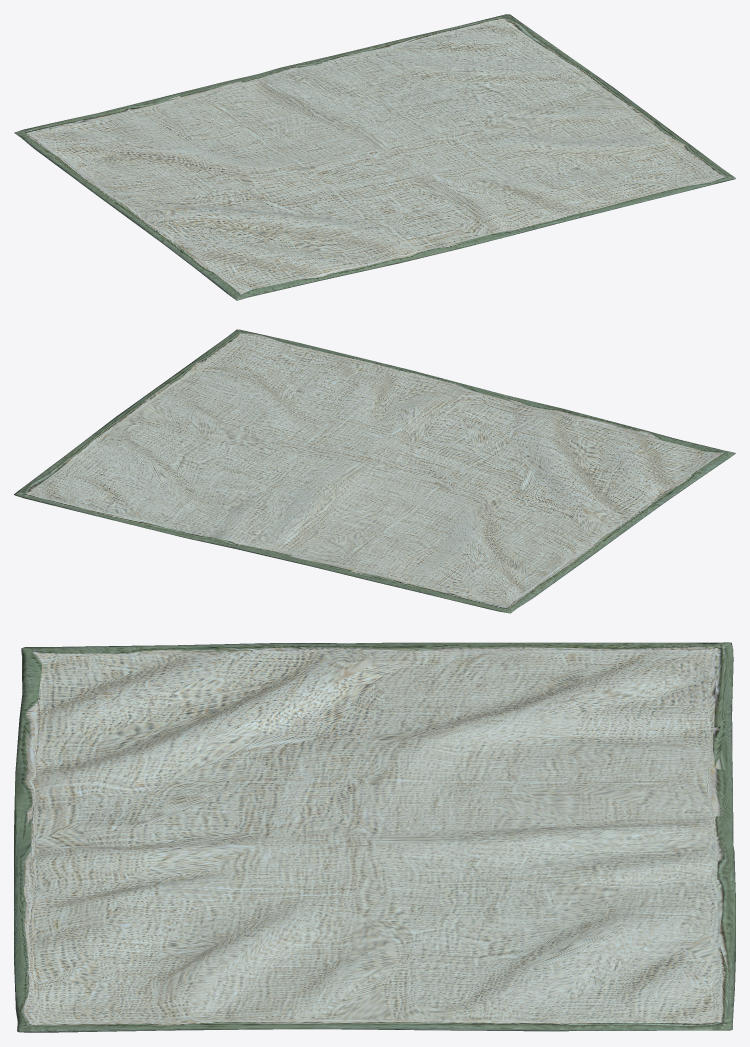
File: mat-button-v1.glb
The picture shows the model from 3 angles, top to bottom: view 1: azimuth 30°, elevation 25°; view 2: azimuth 150°, elevation 25°; view 3: azimuth 270°, elevation 25°; orthographic projection. The views are drawn at different scales.
Parts seen in each view (by area): view 1: tripo_node_36f22074-dbb4-4a1d-b3dc-c9806141963d; view 2: tripo_node_36f22074-dbb4-4a1d-b3dc-c9806141963d; view 3: tripo_node_36f22074-dbb4-4a1d-b3dc-c9806141963d.
Boxes of the visible parts, bbox=[...] form: tripo_node_36f22074-dbb4-4a1d-b3dc-c9806141963d: bbox=[14, 14, 735, 300]; tripo_node_36f22074-dbb4-4a1d-b3dc-c9806141963d: bbox=[14, 329, 735, 613]; tripo_node_36f22074-dbb4-4a1d-b3dc-c9806141963d: bbox=[14, 642, 735, 1032].
Size of the model in its own units: 0.9495 by 0.0183 by 0.7494.
1 material, 1 textured.
